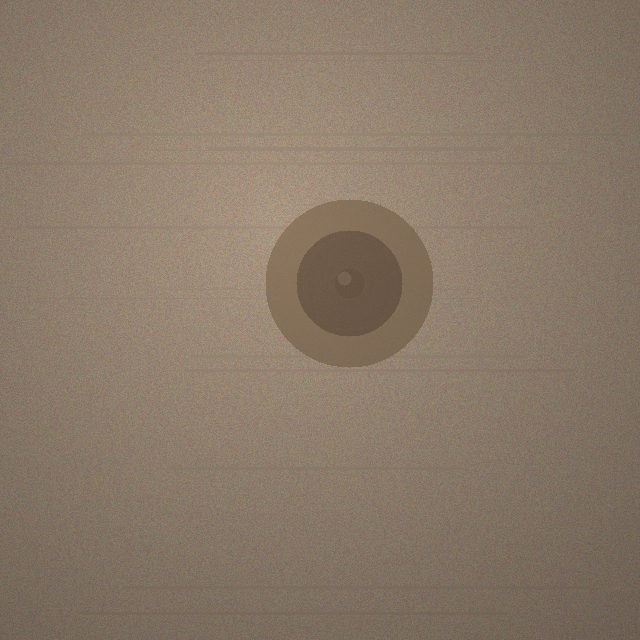good: (265, 199, 433, 367)
